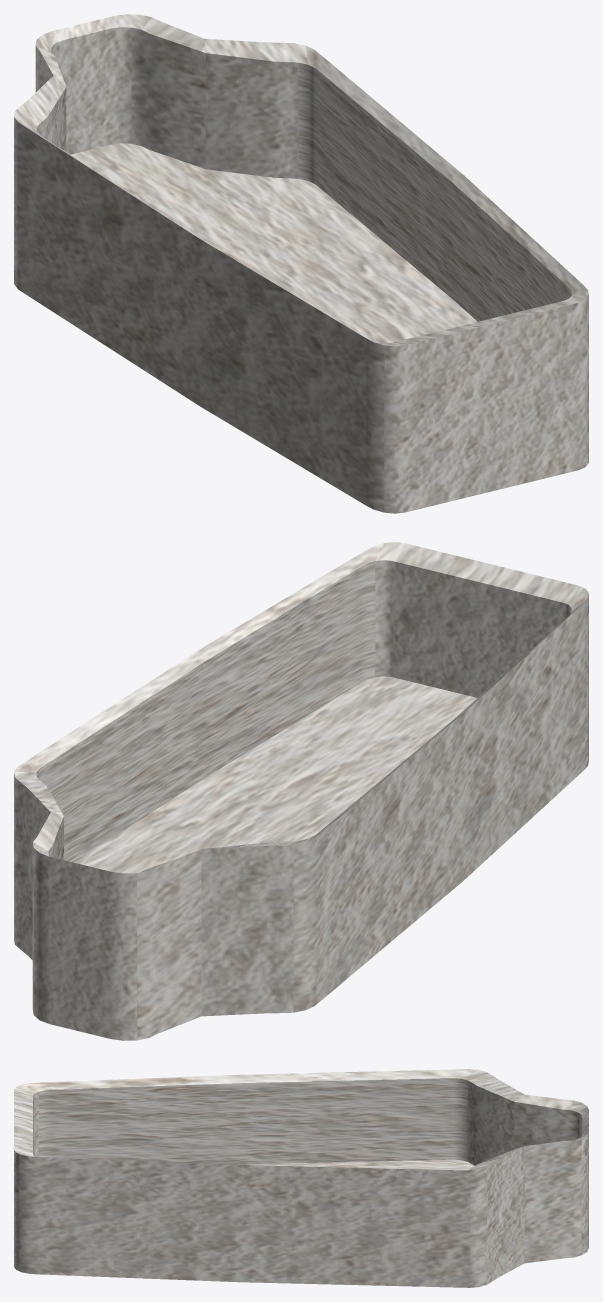
Rendered from Coffin Bottom.fbx.
3 renders of one model, top to bottom at view 1: azimuth 30°, elevation 25°; view 2: azimuth 150°, elevation 25°; view 3: azimuth 270°, elevation 25°, orthographic. The views are drawn at different scales.
Parts seen in each view (by area): view 1: Coffin_Bottom; view 2: Coffin_Bottom; view 3: Coffin_Bottom.
Part boxes in pixels (x1,y1,x2,y2): Coffin_Bottom: (14, 14, 588, 513); Coffin_Bottom: (14, 542, 588, 1040); Coffin_Bottom: (14, 1069, 588, 1287).
Bounding box in the file's own units: 100 × 53.92 × 239.
1 material, 1 textured.
